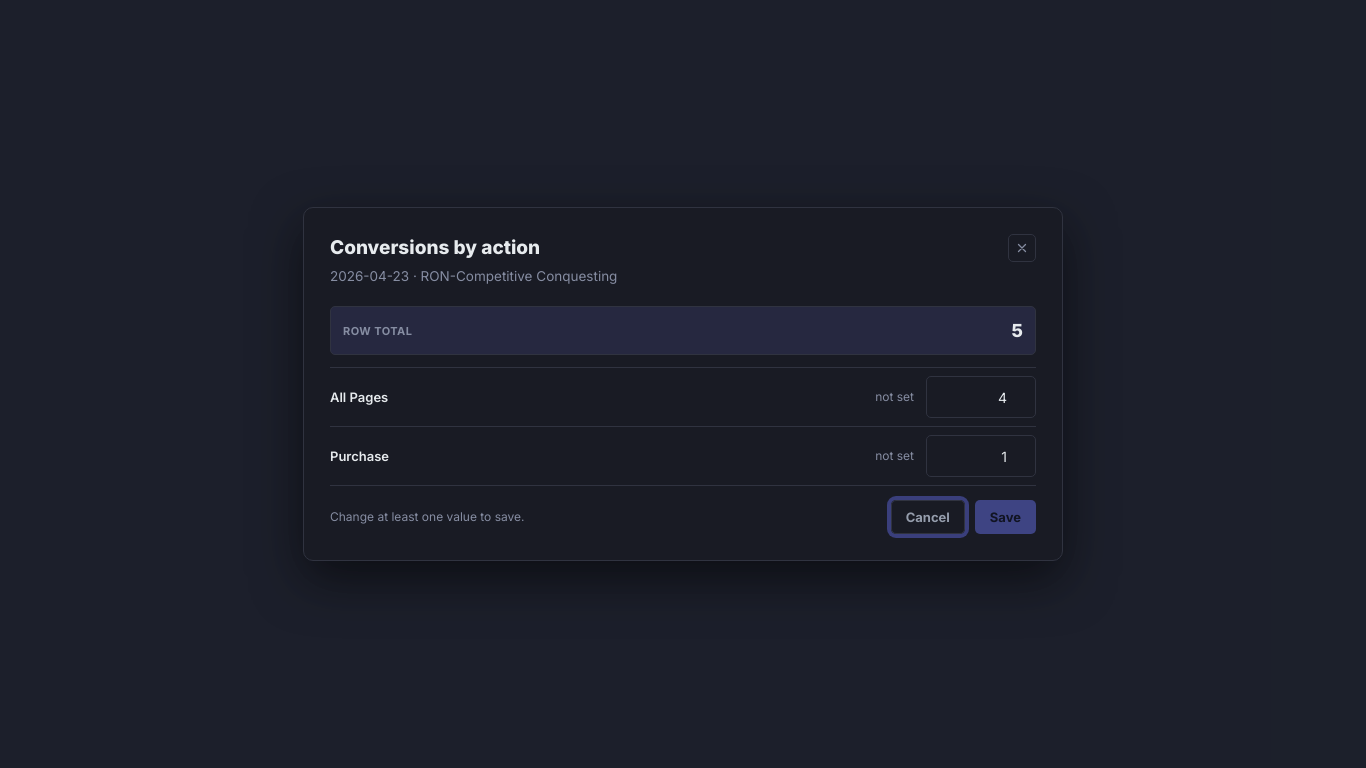
Test: ConversionsBreakdown › should total the actions and follow the edits
Expected: the text "5" is shown, [1012,317,1023,344]
# one action is raised
Replace the text in the number field named "Conversions for All Pages" with "10" at (981, 397), box [926,376,1036,418]
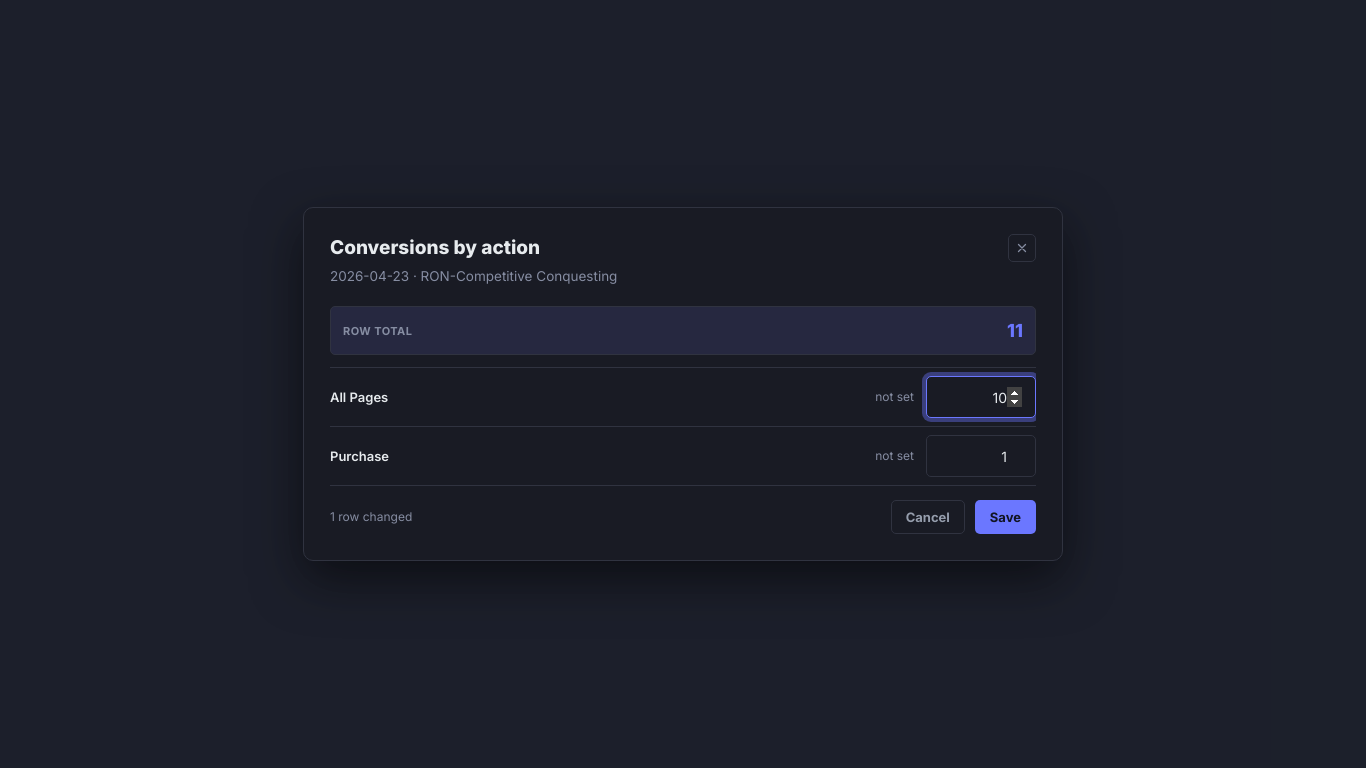
Expected: the text "11" is shown, [1007,317,1023,344]
Expected: the text "1 row changed" is shown, [330,508,412,526]
